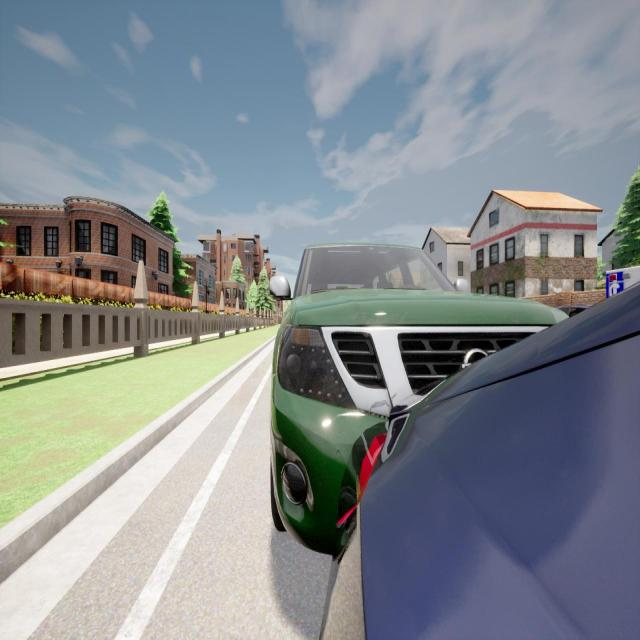Vehicle: (320, 279, 640, 640), (269, 235, 573, 551), (550, 296, 601, 323), (606, 266, 640, 300)
